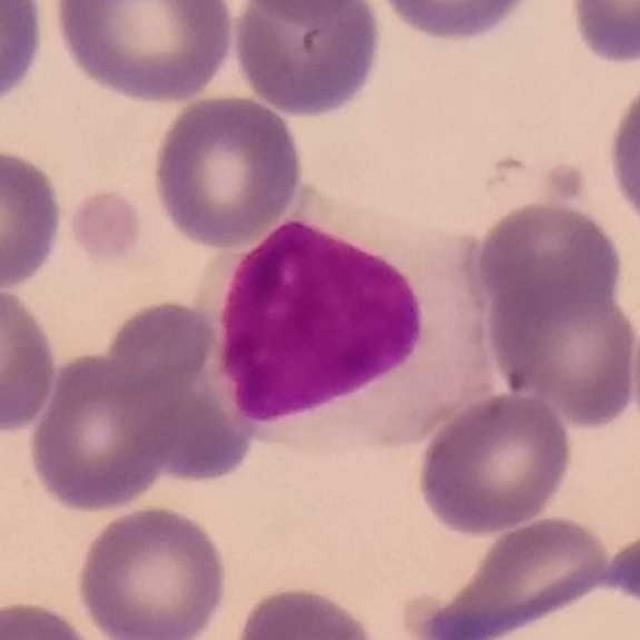Lymphocyte: (202, 189, 508, 458)
RBC: (408, 513, 624, 640), (23, 348, 186, 516), (148, 90, 305, 251), (412, 388, 578, 539), (483, 272, 640, 430), (71, 501, 232, 640), (50, 0, 238, 106), (471, 197, 626, 323), (228, 0, 385, 120), (98, 296, 221, 401), (0, 143, 69, 294), (0, 280, 61, 438), (227, 581, 387, 640), (365, 0, 545, 46), (603, 61, 640, 245), (0, 0, 49, 112), (564, 0, 640, 69), (0, 595, 106, 640), (600, 525, 640, 618), (230, 0, 379, 22), (625, 287, 640, 456)
